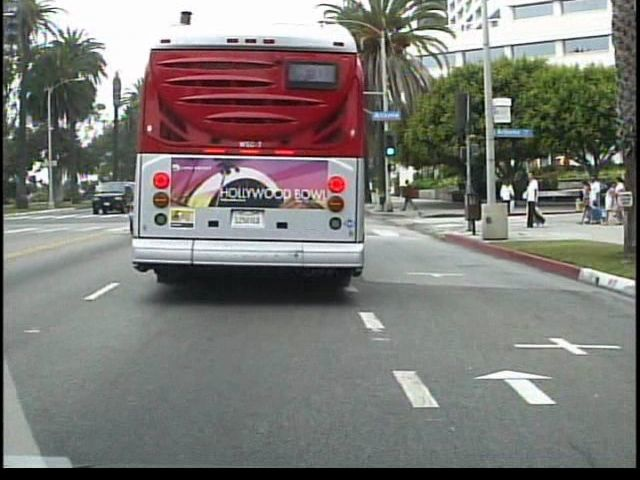person: (524, 167, 546, 228), (401, 177, 422, 217), (462, 176, 479, 216), (499, 175, 519, 204)
